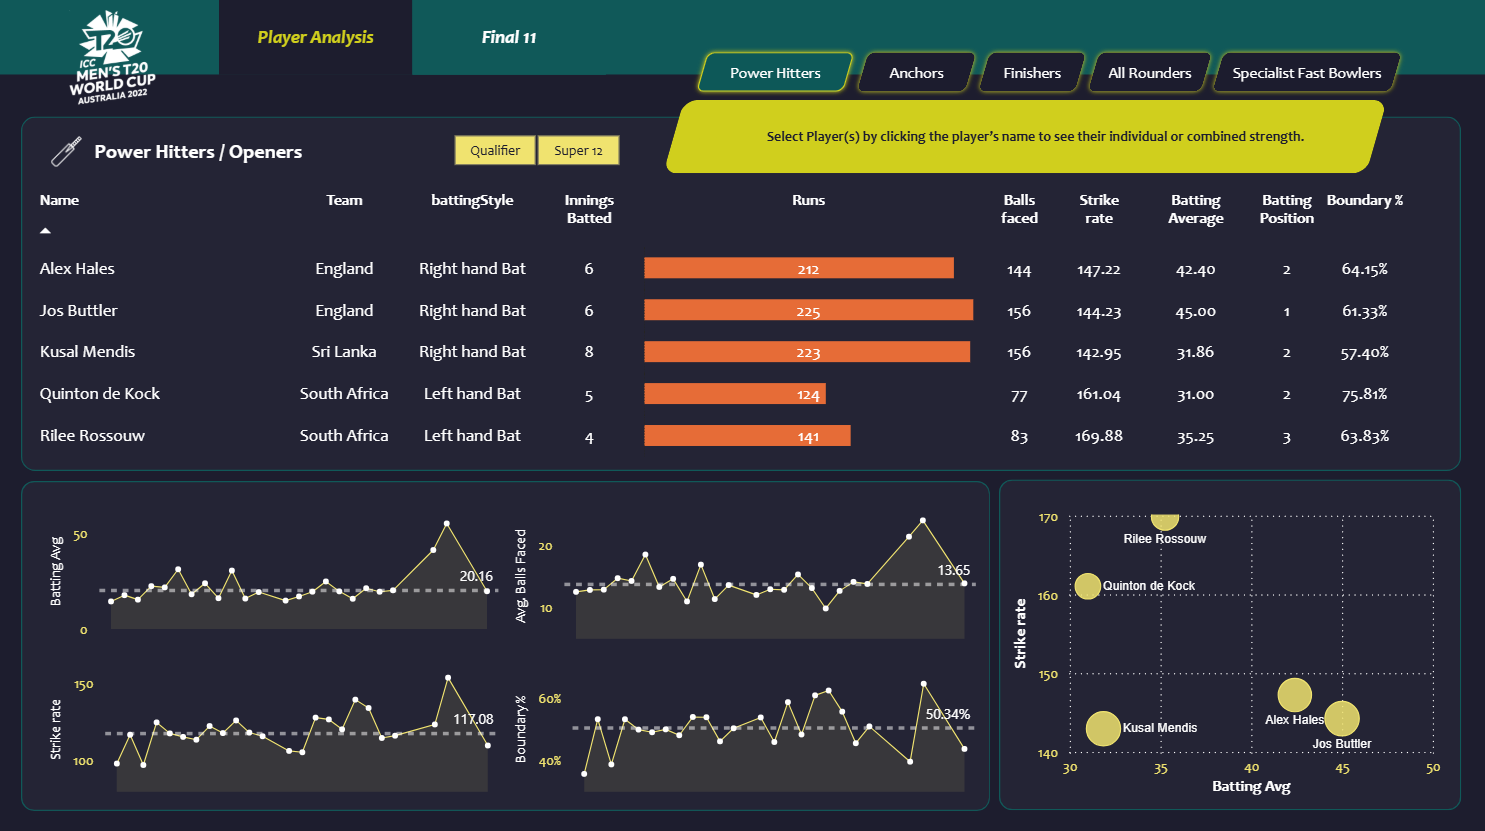

Layout of this report page (visuals, bound fields, positions):
{"tool":"powerbi","page":{"name":"Project - Sportan","canvas":[1280,720],"ordinal":0},"visuals":[{"type":"shape","box":[0,66,1280,654],"z":0},{"type":"card","fields":{"Values":["Key_Measures.Strike rate"]},"box":[867,89,93,60],"z":0,"group":"g2"},{"type":"group","id":"g1","title":"Group 2","box":[83.8,116.2,260,31.2],"z":0,"group":"g3"},{"type":"shape","box":[83.8,116.2,260,31.2],"z":0,"group":"g1"},{"type":"card","fields":{"Values":["Key_Measures.Bat Avg"]},"box":[768,89,92,60],"z":1000,"group":"g2"},{"type":"image","box":[38,114,44,36],"z":1000,"group":"g3"},{"type":"shape","box":[20,414.4,832.2,283.3],"z":1000},{"type":"actionButton","box":[734,42.6,111,42],"z":2000},{"type":"card","fields":{"Values":["Key_Measures.Boundary %"]},"box":[1063.6,92.3,110,56.7],"z":2000,"group":"g2"},{"type":"actionButton","box":[596,42.6,144,42],"z":3000},{"type":"card","fields":{"Values":["Key_Measures.Avergate Balls Faced"]},"box":[966,89,101,60],"z":3000,"group":"g2"},{"type":"actionButton","box":[838,42.6,101,42],"z":4000},{"type":"actionButton","box":[932,42.6,115,42],"z":5000},{"type":"actionButton","box":[1039,42.6,171,42],"z":6000},{"type":"image","box":[1220,3,48,59],"z":7000},{"type":"areaChart","fields":{"Category":["dim_match_summary.Match_Date.Variation.Date Hierarchy.Day"],"Y":["Key_Measures.Boundary %"]},"box":[438.8,560,406.2,126.2],"z":9000},{"type":"shape","box":[860,414,397,284],"z":10000},{"type":"areaChart","fields":{"Category":["dim_match_summary.Match_Date.Variation.Date Hierarchy.Day"],"Y":["Key_Measures.Avergate Balls Faced"]},"box":[438.8,428.8,406.2,126.2],"z":11000},{"type":"areaChart","fields":{"Category":["dim_match_summary.Match_Date.Variation.Date Hierarchy.Day"],"Y":["Key_Measures.Bat Avg"]},"box":[40,428.9,395.6,126.7],"z":12000},{"type":"areaChart","fields":{"Category":["dim_match_summary.Match_Date.Variation.Date Hierarchy.Day"],"Y":["Key_Measures.Strike rate"]},"box":[40,560,396.2,126.2],"z":13000},{"type":"shape","box":[20,102.2,1236.7,304.4],"z":14000},{"type":"slicer","fields":{"Values":["dim_match_summary.stage"]},"box":[366.7,111.1,191.1,38.9],"z":15000},{"type":"shape","box":[572,88,622,63],"z":16000},{"type":"shape","box":[591,103,173,34],"z":17000},{"type":"group","id":"g2","title":"Combined Perfoamce Metrices","box":[768,89,405.6,60],"z":18000},{"type":"group","id":"g3","title":"Group 1","box":[38,114,305.8,36],"z":19000},{"type":"tableEx","fields":{"Values":["dim_player.name","dim_player.team","dim_player.Batting Style","Key_Measures.Total Matches","Key_Measures.Total Runs","Key_Measures.total balls faced","Key_Measures.Strike rate","Key_Measures.Bat Avg","Key_Measures.Batting Position","Key_Measures.Boundary %"]},"box":[26,151,1231,255],"z":20000},{"type":"scatterChart","fields":{"Y":["Key_Measures.Strike rate"],"Category":["dim_player.name"],"X":["Key_Measures.Bat Avg"],"Size":["Key_Measures.Total Runs"]},"box":[866.7,430,377.8,258.9],"z":21000},{"type":"actionButton","title":"Button Player Ana selected","box":[191,0,166,66],"z":22000},{"type":"actionButton","title":"Button Player Ana selected","box":[357,0,166,66],"z":23000},{"type":"shape","box":[612,100,560,36],"z":24000}]}

Visuals, with their boxes in screenshot pixels (x1, y1, x2, y2), scaled from the page's 1280x720 canvas onto the 1485x831 screenshot:
shape: crop(0, 76, 1484, 830)
card - Key_Measures.Strike rate: crop(1006, 103, 1114, 172)
"Group 2" group: crop(97, 134, 399, 170)
shape: crop(97, 134, 399, 170)
card - Key_Measures.Bat Avg: crop(891, 103, 998, 172)
image: crop(44, 132, 95, 173)
shape: crop(23, 478, 989, 805)
actionButton: crop(852, 49, 980, 98)
card - Key_Measures.Boundary %: crop(1234, 107, 1362, 172)
actionButton: crop(691, 49, 859, 98)
card - Key_Measures.Avergate Balls Faced: crop(1121, 103, 1238, 172)
actionButton: crop(972, 49, 1089, 98)
actionButton: crop(1081, 49, 1215, 98)
actionButton: crop(1205, 49, 1404, 98)
image: crop(1415, 3, 1471, 72)
areaChart - dim_match_summary.Match_Date.Variation.Date Hierarchy.Day x Key_Measures.Boundary %: crop(509, 646, 980, 792)
shape: crop(998, 478, 1458, 806)
areaChart - dim_match_summary.Match_Date.Variation.Date Hierarchy.Day x Key_Measures.Avergate Balls Faced: crop(509, 495, 980, 641)
areaChart - dim_match_summary.Match_Date.Variation.Date Hierarchy.Day x Key_Measures.Bat Avg: crop(46, 495, 505, 641)
areaChart - dim_match_summary.Match_Date.Variation.Date Hierarchy.Day x Key_Measures.Strike rate: crop(46, 646, 506, 792)
shape: crop(23, 118, 1458, 469)
slicer - dim_match_summary.stage: crop(425, 128, 647, 173)
shape: crop(664, 102, 1385, 174)
shape: crop(686, 119, 886, 158)
"Combined Perfoamce Metrices" group: crop(891, 103, 1362, 172)
"Group 1" group: crop(44, 132, 399, 173)
tableEx - dim_player.name x dim_player.team: crop(30, 174, 1458, 469)
scatterChart - Key_Measures.Strike rate x dim_player.name: crop(1006, 496, 1444, 795)
"Button Player Ana selected" actionButton: crop(222, 0, 414, 76)
"Button Player Ana selected" actionButton: crop(414, 0, 607, 76)
shape: crop(710, 115, 1360, 157)
